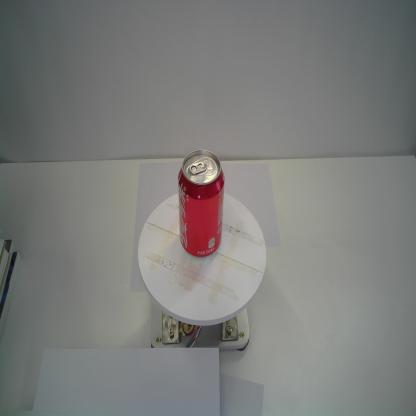Drink: (175, 146, 226, 262)
